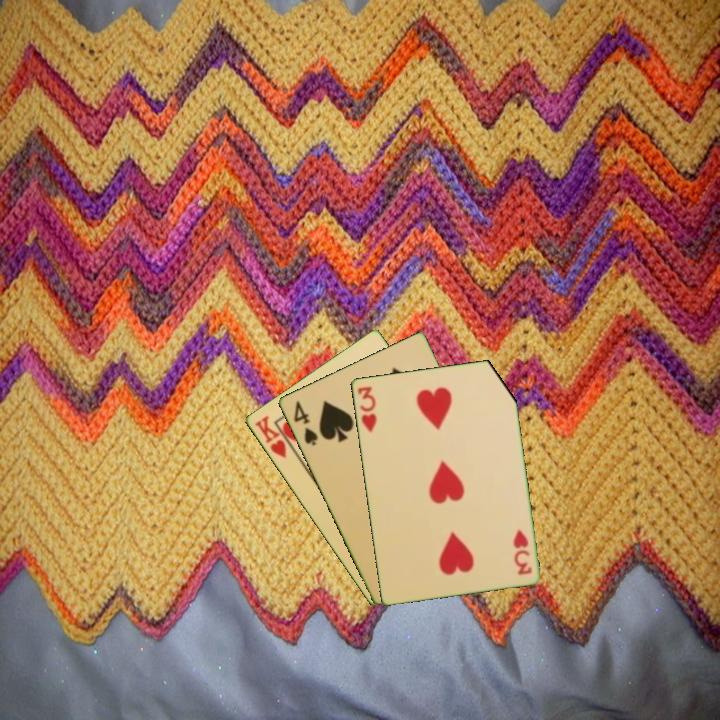3h: (354, 382, 379, 435), (509, 525, 534, 577)
4s: (290, 397, 320, 448)
Kh: (251, 412, 298, 461)
